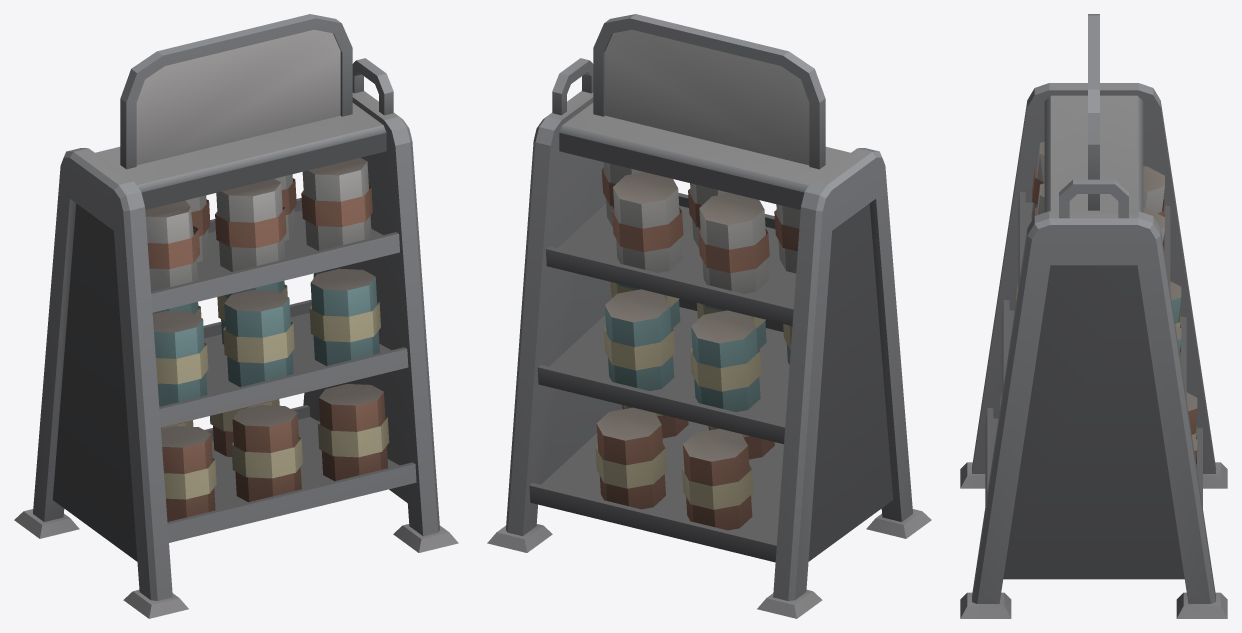
Rendered from cans.glb.
3 renders of one model, left to right at view 1: azimuth 30°, elevation 25°; view 2: azimuth 150°, elevation 25°; view 3: azimuth 270°, elevation 25°, orthographic.
Visible parts, largest first — view 1: cans.001; view 2: cans.001; view 3: cans.001.
Boxes of the visible parts, <box> form: cans.001: <box>14,14,458,618</box>; cans.001: <box>487,14,931,618</box>; cans.001: <box>960,14,1227,618</box>.
Size of the model in its own units: 0.718 by 1.1 by 0.542.
